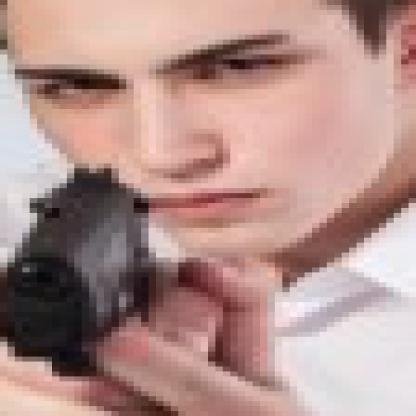gun: (0, 149, 171, 411)
